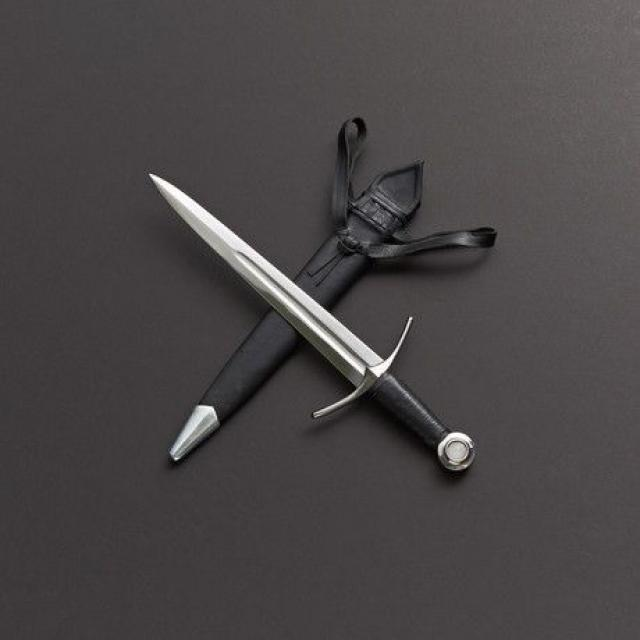short sword: (119, 93, 502, 504)
